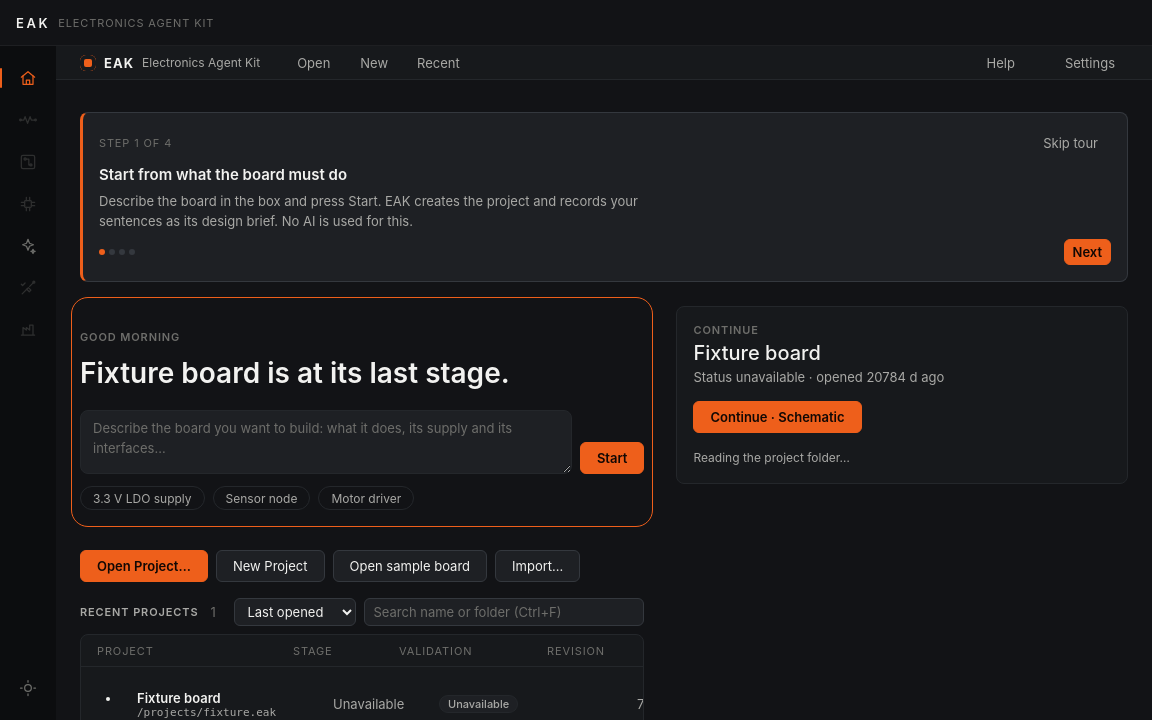
Test: workspace live synchronisation › shows an agent's commit from the event, refetching the snapshot once and only the changed areas
This screenshot has width=1152, height=720.
Later steps or results of the test are not shown.
Click the text "Fixture board" below "Validation" at (179, 698), box [137, 690, 221, 706]
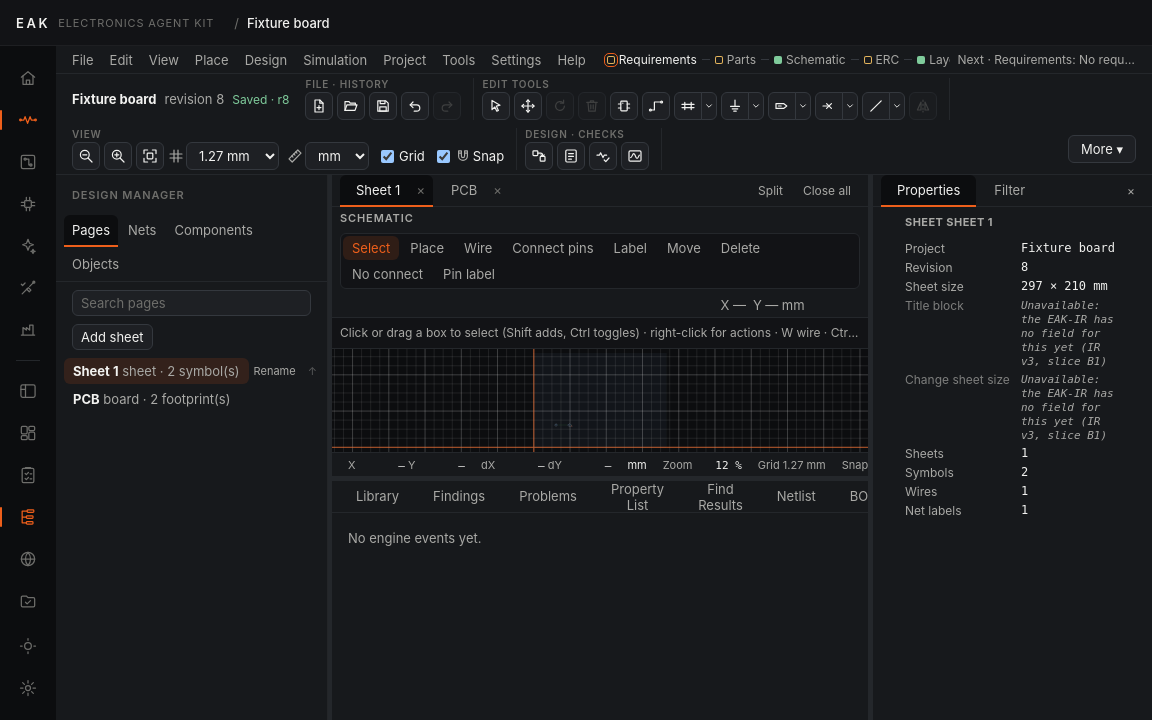
Expected: the text "revision 8" is shown, [164, 91, 224, 107]
